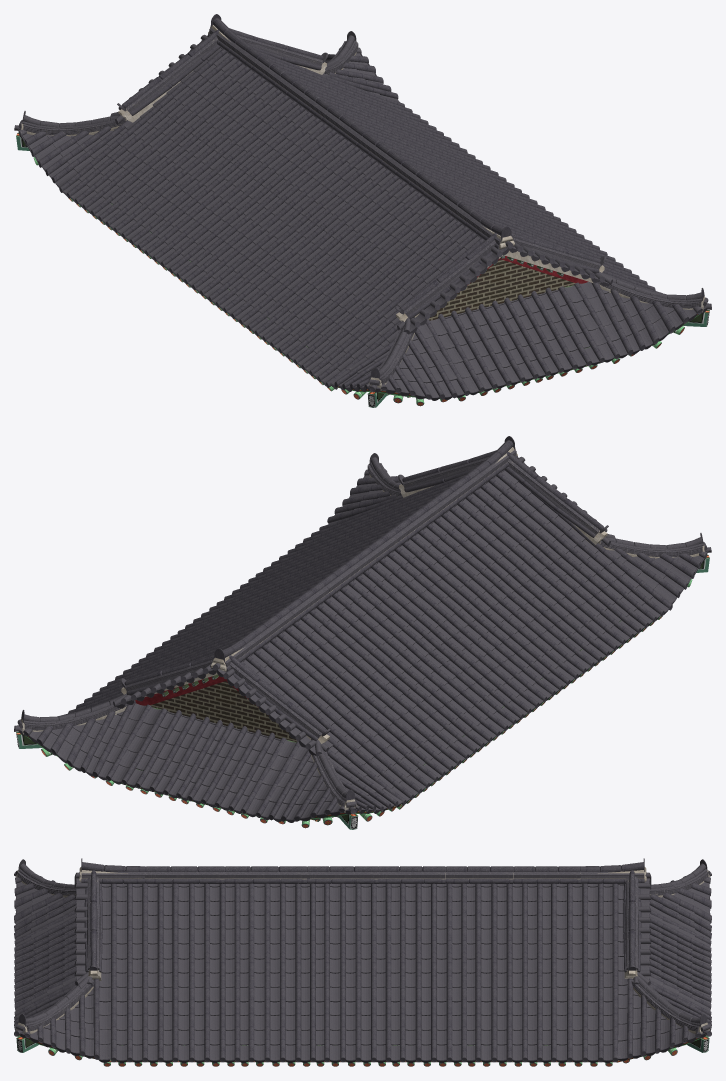
Rendered from SM_R_Seoricheong.fbx.
3 renders of one model, top to bottom at view 1: azimuth 30°, elevation 25°; view 2: azimuth 150°, elevation 25°; view 3: azimuth 270°, elevation 25°, orthographic. The views are drawn at different scales.
Visible parts, largest first — view 1: SM_R_Seoricheong; view 2: SM_R_Seoricheong; view 3: SM_R_Seoricheong.
Part boxes in pixels (<box>): SM_R_Seoricheong: <box>14,14,711,407</box>; SM_R_Seoricheong: <box>14,436,711,829</box>; SM_R_Seoricheong: <box>14,858,711,1066</box>.
Bounding box in the file's own units: 1017 × 1842 × 412.
8 materials, 8 textured.
